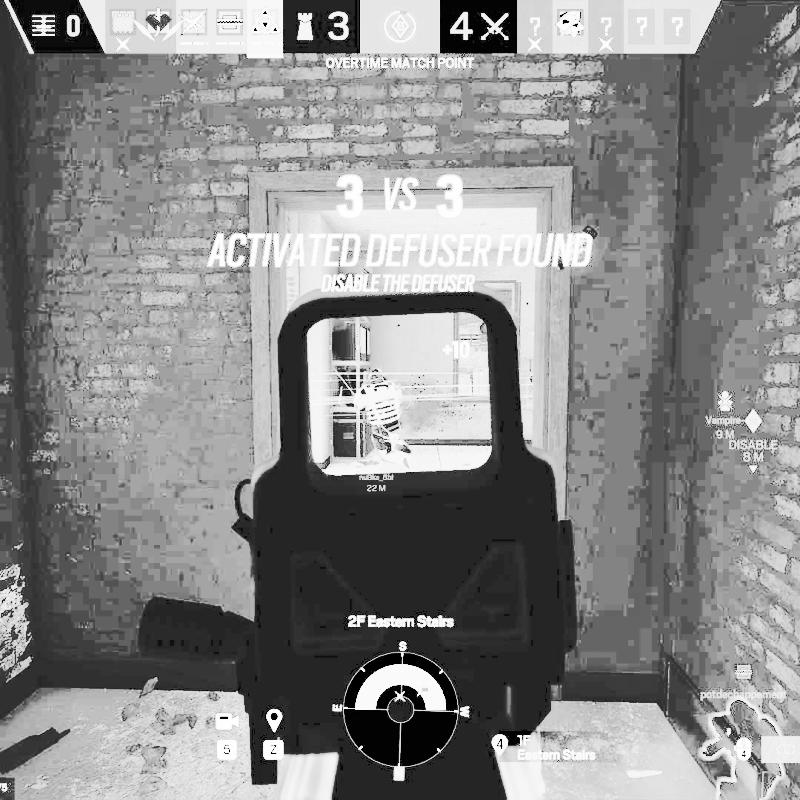Character: (353, 368, 416, 470)
Friend_label: (700, 663, 788, 700)
Head: (366, 366, 387, 386)
